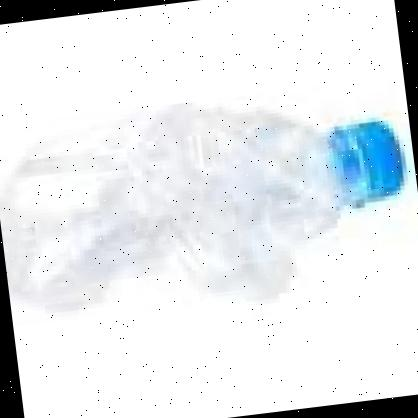bottle: (0, 57, 418, 347)
cap: (344, 109, 412, 208)
